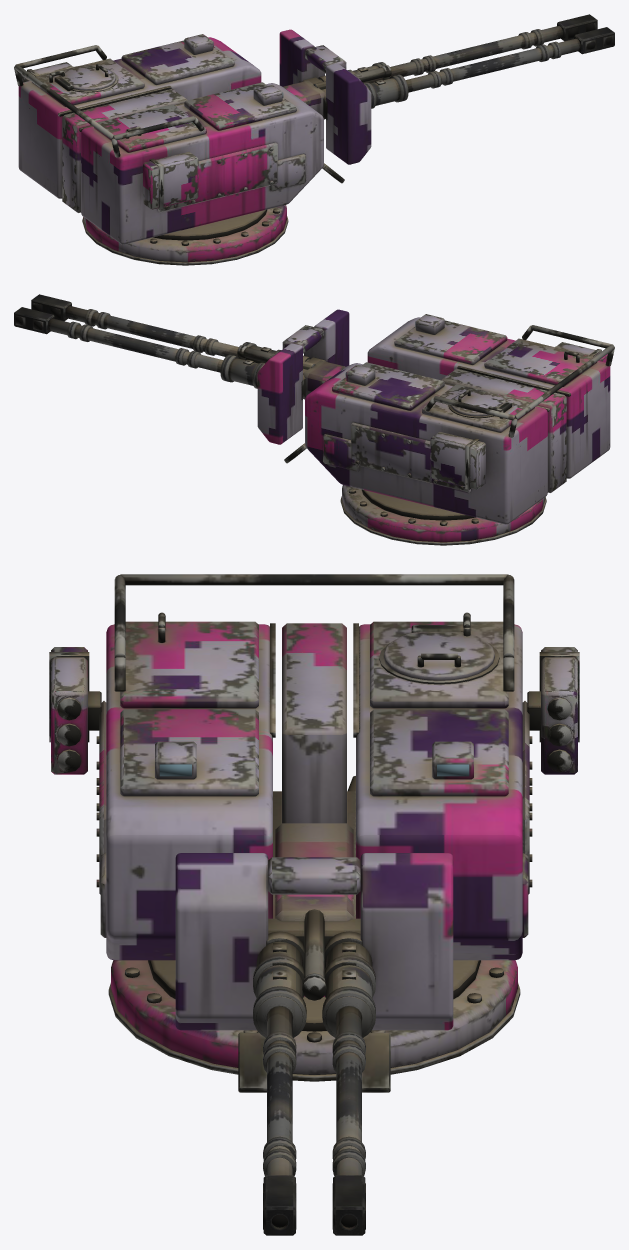
Rendered from turret_kit_t2_pixel.glb.
3 views of the same model, one above another, from view 1: azimuth 30°, elevation 25°; view 2: azimuth 150°, elevation 25°; view 3: azimuth 270°, elevation 25° (orthographic). The views are drawn at different scales.
Parts seen in each view (by area): view 1: turret_twin_t2, guns, pods; view 2: turret_twin_t2, guns, pods; view 3: turret_twin_t2, guns, pods.
Boxes of the visible parts, x1,y1,x2,y2 form: turret_twin_t2: (14,29,371,265); guns: (283,14,614,119); pods: (21,62,198,209); turret_twin_t2: (257,309,614,545); guns: (14,294,345,399); pods: (430,342,607,489); turret_twin_t2: (96,574,532,1092); guns: (253,823,375,1235); pods: (49,647,579,774).
Bounding box in the file's own units: 2.7 × 0.722 × 1.15.
Materials: 4 (3 with a texture image).
